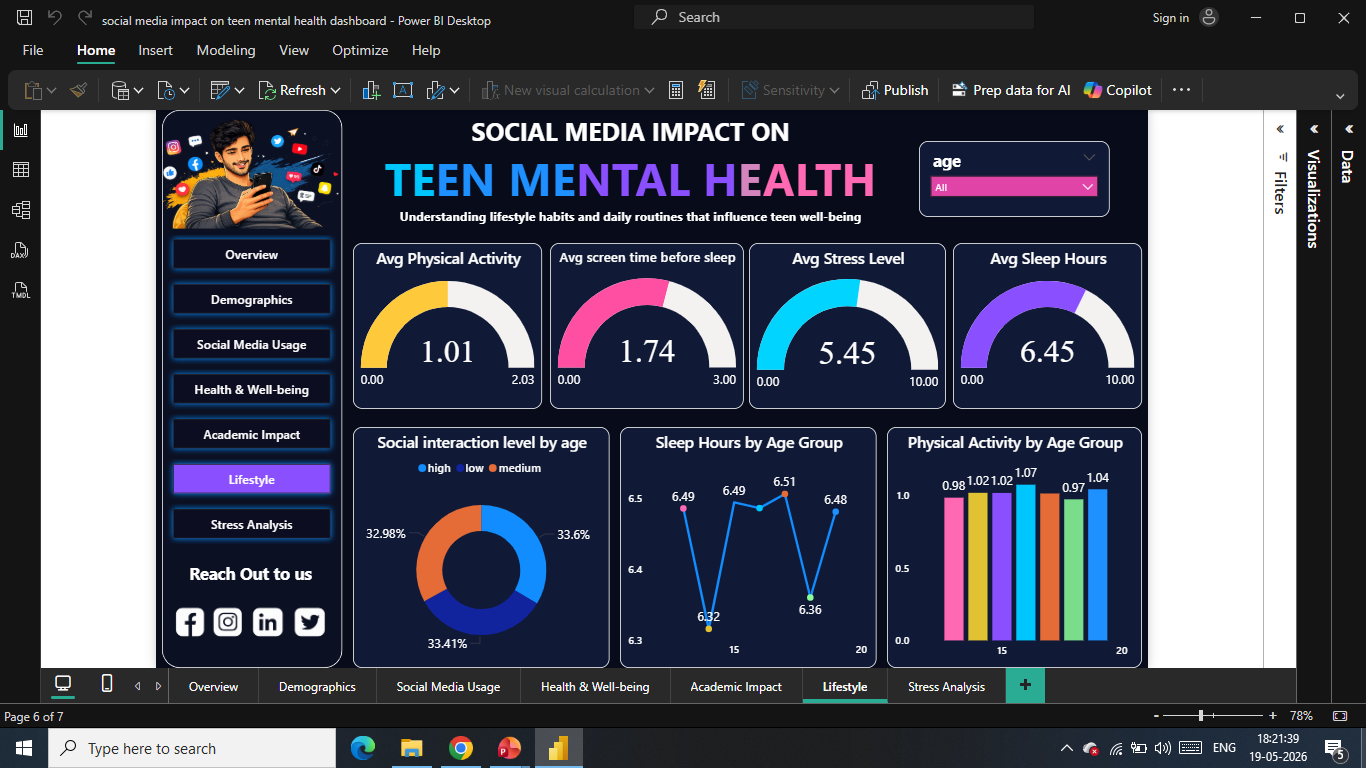

The page's visual inventory and layout, read from the dashboard file:
{"tool":"powerbi","page":{"name":"Lifestyle","canvas":[1280,720],"ordinal":5},"visuals":[{"type":"shape","box":[7.2,0,232.8,720],"z":0},{"type":"pageNavigator","box":[14.5,159,219.8,403.4],"z":1000},{"type":"textbox","box":[240,0,744.6,157.6],"z":2000},{"type":"gauge","title":"Avg screen time before sleep","fields":{"Y":["Avg(Teen_Mental_Health_Dataset.screen_time_before_sleep)"]},"box":[508.9,172,250.1,214],"z":3000},{"type":"gauge","title":"Avg Physical Activity","fields":{"Y":["Teen_Mental_Health_Dataset.Avg Physical Activity"]},"box":[254.5,172,244.3,214],"z":4000},{"type":"gauge","title":"Avg Sleep Hours","fields":{"Y":["Avg(Teen_Mental_Health_Dataset.sleep_hours)"]},"box":[1028,172,244.3,214],"z":5000},{"type":"donutChart","title":"Social interaction level by age","fields":{"Category":["Teen_Mental_Health_Dataset.social_interaction_level"],"Y":["Avg(Teen_Mental_Health_Dataset.age)"]},"box":[254.5,409.2,331.1,310.8],"z":6000},{"type":"image","box":[7.2,0,231.3,159],"z":7000},{"type":"image","box":[7.2,614.5,232.8,91.1],"z":8000},{"type":"textbox","box":[24.6,578.3,195.2,47.7],"z":9000},{"type":"gauge","fields":{"Y":["Teen_Mental_Health_Dataset.Avg Stress Level"]},"box":[764.8,172,254.5,214],"z":10000},{"type":"lineChart","title":"Sleep Hours by Age Group","fields":{"Category":["Teen_Mental_Health_Dataset.age"],"Y":["Avg(Teen_Mental_Health_Dataset.sleep_hours)"]},"box":[598.6,409.2,331.1,310.8],"z":11000},{"type":"slicer","fields":{"Values":["Teen_Mental_Health_Dataset.age"]},"box":[984.6,40.5,245.8,98.3],"z":12000},{"type":"columnChart","title":"Physical Activity by Age Group","fields":{"Category":["Teen_Mental_Health_Dataset.age"],"Y":["Avg(Teen_Mental_Health_Dataset.physical_activity)"]},"box":[943.2,408.7,329.4,311.4],"z":13000}]}

Visuals, with their boxes on the page's 1280x720 design canvas (x1, y1, x2, y2). These are canvas units, not pixel positions in the 1366x768 screenshot, which may show the page scaled, cropped or inside an application window:
shape: (7, 0, 240, 720)
pageNavigator: (14, 159, 234, 562)
textbox: (240, 0, 985, 158)
"Avg screen time before sleep" gauge: (509, 172, 759, 386)
"Avg Physical Activity" gauge: (254, 172, 499, 386)
"Avg Sleep Hours" gauge: (1028, 172, 1272, 386)
"Social interaction level by age" donutChart: (254, 409, 586, 720)
image: (7, 0, 238, 159)
image: (7, 614, 240, 706)
textbox: (25, 578, 220, 626)
gauge - Teen_Mental_Health_Dataset.Avg Stress Level: (765, 172, 1019, 386)
"Sleep Hours by Age Group" lineChart: (599, 409, 930, 720)
slicer - Teen_Mental_Health_Dataset.age: (985, 40, 1230, 139)
"Physical Activity by Age Group" columnChart: (943, 409, 1273, 720)
